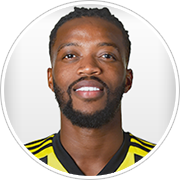smile: (72, 80, 106, 98)
